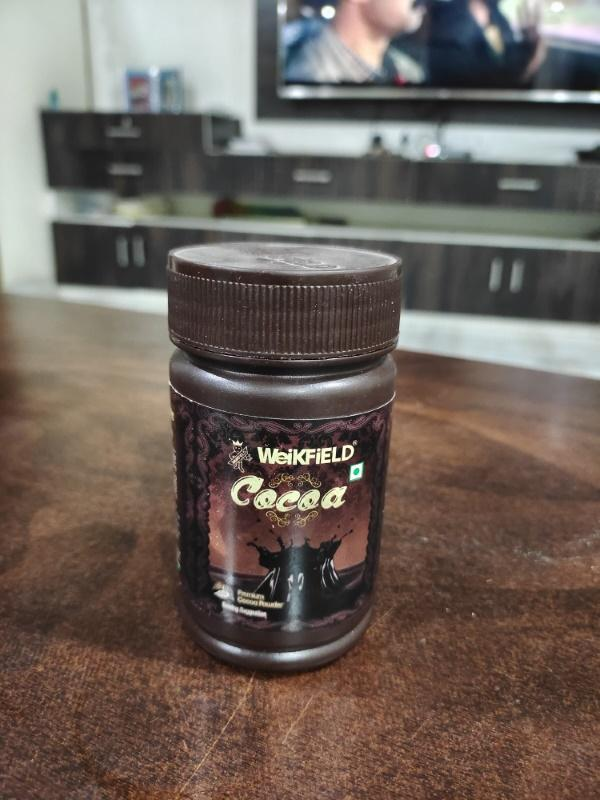Cocoa Powder: (153, 220, 412, 688)
